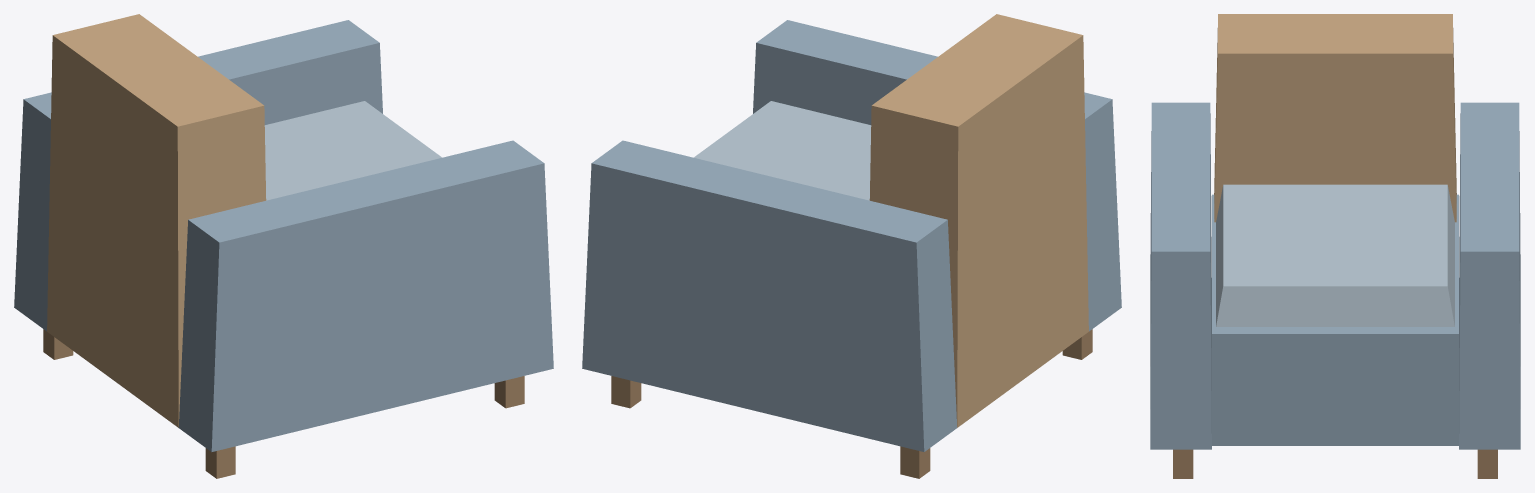
Rendered from armchair.glb.
The picture shows the model from 3 angles, left to right: view 1: azimuth 30°, elevation 25°; view 2: azimuth 150°, elevation 25°; view 3: azimuth 270°, elevation 25°; orthographic projection. The views are drawn at different scales.
Size of the model in its own units: 0.9 by 0.85 by 0.9.
